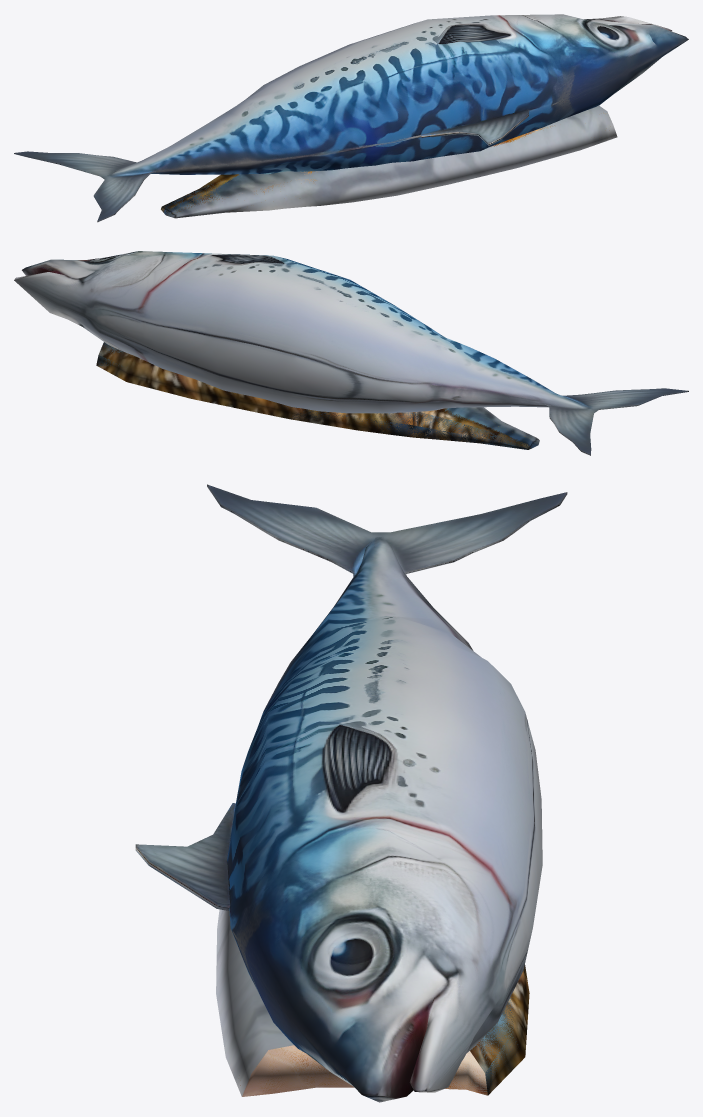
The model's file is uskumru_balık.fbx.
3 views of the same model, one above another, from view 1: azimuth 30°, elevation 25°; view 2: azimuth 150°, elevation 25°; view 3: azimuth 270°, elevation 25° (orthographic). The views are drawn at different scales.
Parts seen in each view (by area): view 1: uskumru, uskumru_kesilmis, uskumru_pismis; view 2: uskumru, uskumru_pismis, uskumru_kesilmis; view 3: uskumru, uskumru_kesilmis, uskumru_pismis.
Boxes of the visible parts, x1,y1,x2,y2 form: uskumru: (14,14,688,222); uskumru_kesilmis: (162,105,617,218); uskumru_pismis: (161,125,554,215); uskumru: (14,251,688,455); uskumru_pismis: (96,342,531,449); uskumru_kesilmis: (96,342,539,449); uskumru: (135,484,567,1102); uskumru_kesilmis: (216,909,517,1096); uskumru_pismis: (240,965,529,1095).
Size of the model in its own units: 95.32 by 19.21 by 28.53.
Materials: 1 (1 with a texture image).
